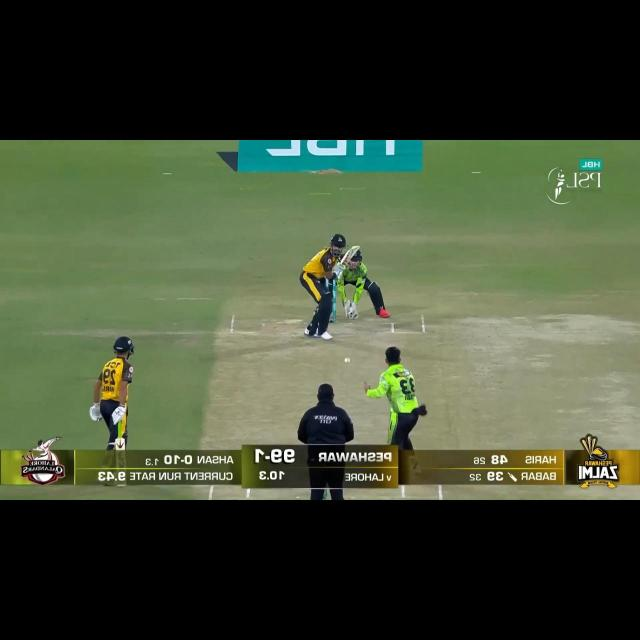bat: (339, 246, 358, 268), (113, 438, 129, 452)
toe: (351, 246, 361, 252)
